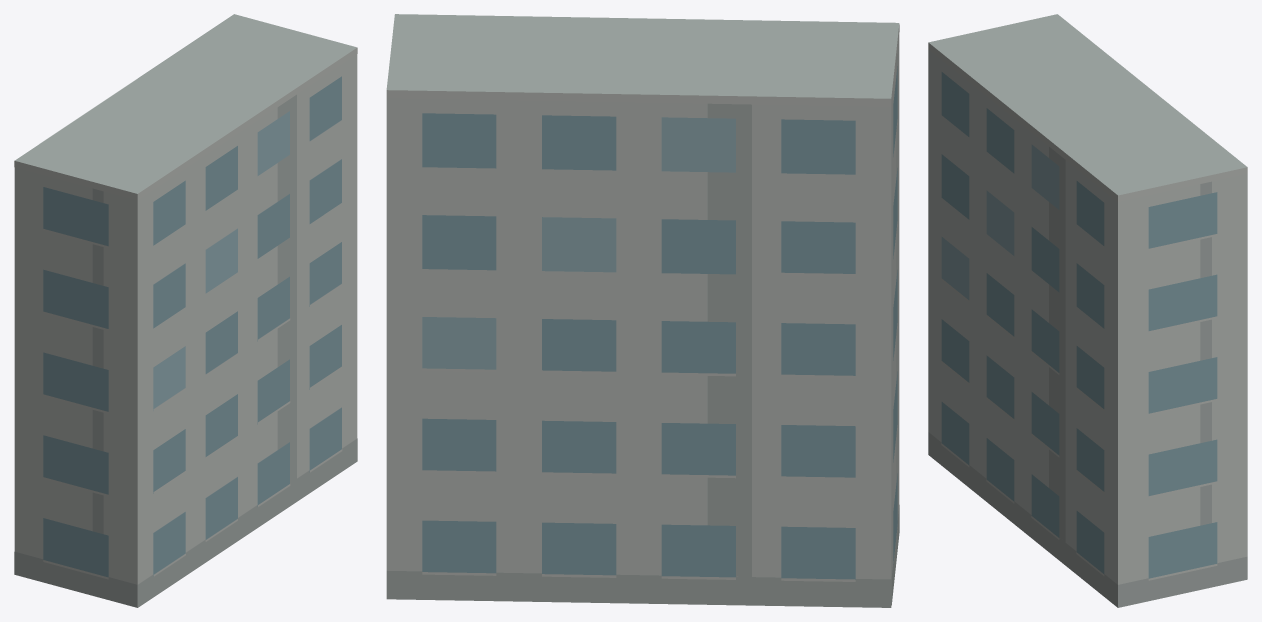
Rendered from survey-upis-32832237.glb.
3 renders of one model, left to right at view 1: azimuth 30°, elevation 25°; view 2: azimuth 150°, elevation 25°; view 3: azimuth 270°, elevation 25°, orthographic. The views are drawn at different scales.
Visible parts, largest first — view 1: survey-upis-32832237.tmp; view 2: survey-upis-32832237.tmp; view 3: survey-upis-32832237.tmp.
Boxes of the visible parts, x1=… form: survey-upis-32832237.tmp: x1=14, y1=14, x2=357, y2=607; survey-upis-32832237.tmp: x1=386, y1=14, x2=899, y2=607; survey-upis-32832237.tmp: x1=928, y1=14, x2=1247, y2=607.
Size of the model in its own units: 14.4 by 15.25 by 10.71.
